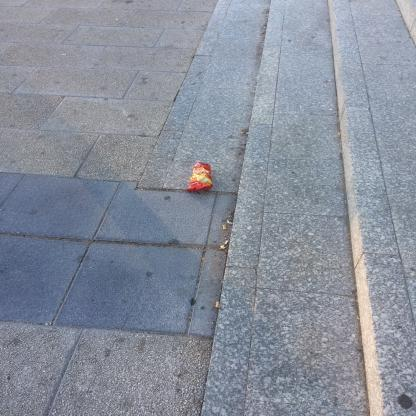trash: (184, 160, 215, 192)
